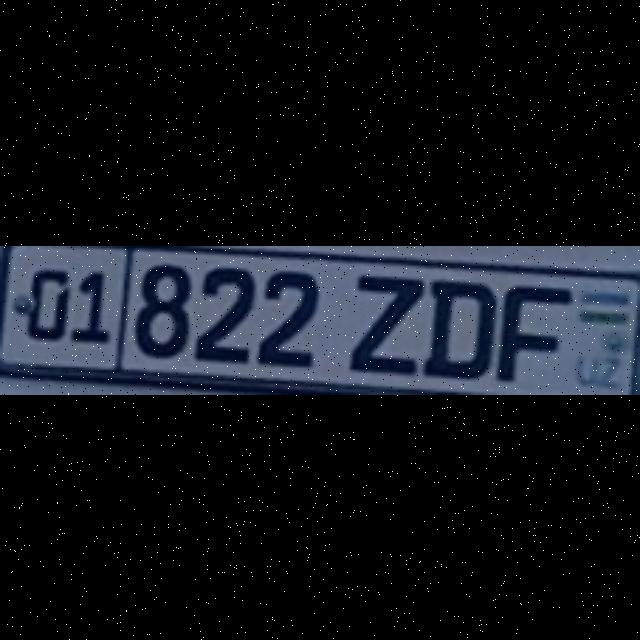0: (26, 264, 68, 338)
1: (67, 268, 106, 340)
2: (192, 265, 254, 361), (254, 267, 316, 363)
8: (130, 262, 188, 354)
D: (421, 276, 494, 378)
F: (496, 282, 570, 381)
Z: (346, 270, 419, 372)
